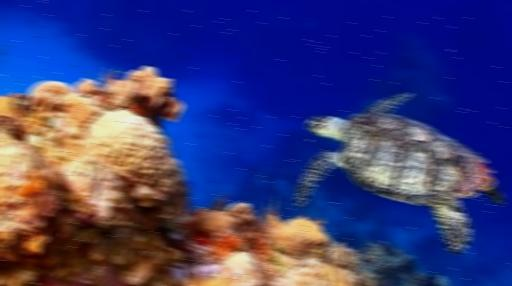Fish: (294, 94, 504, 253)
